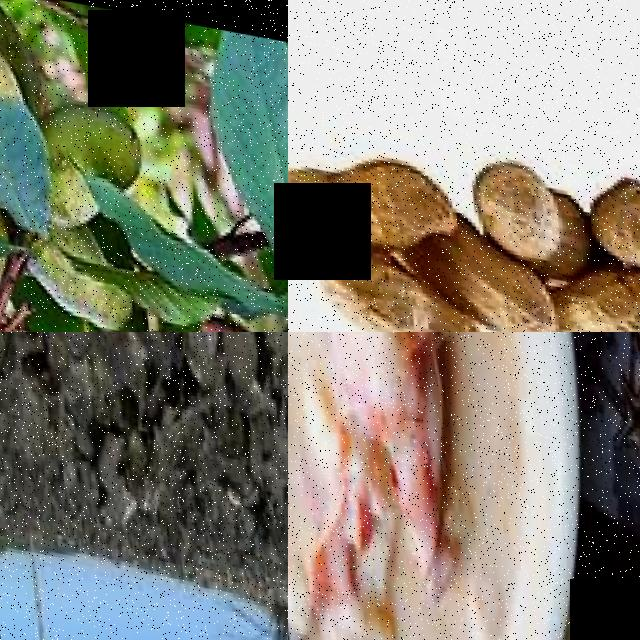peanuts: (308, 242, 485, 332), (459, 156, 581, 262), (455, 244, 550, 332), (543, 246, 640, 332), (579, 159, 640, 266), (288, 145, 321, 271)
